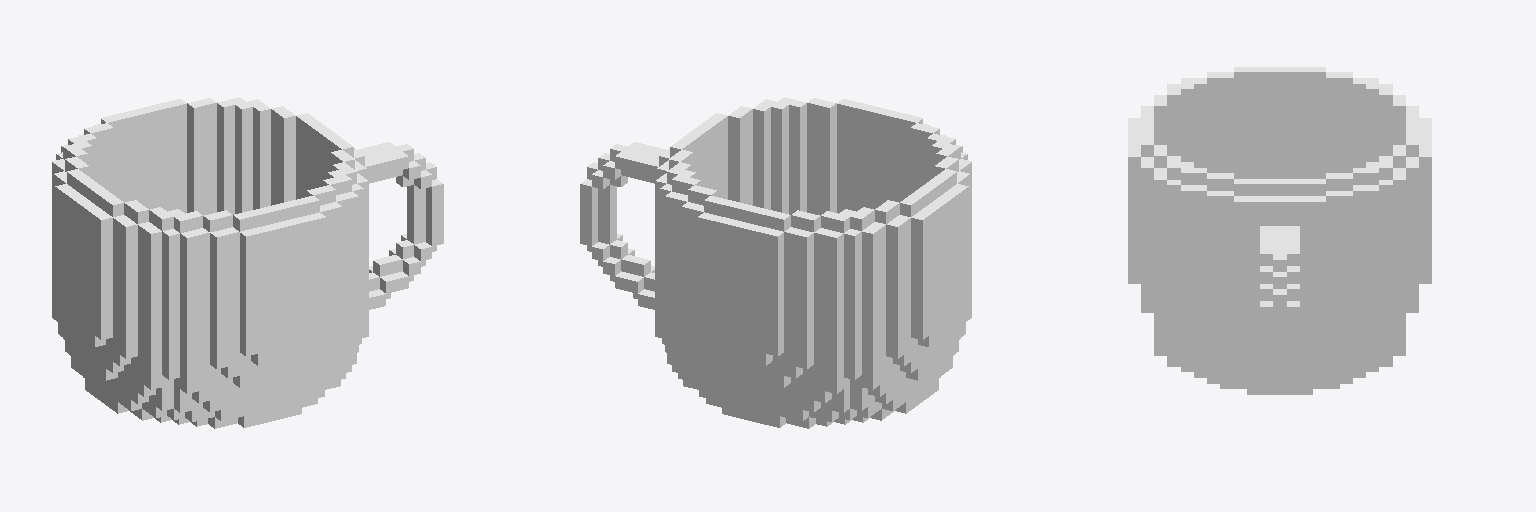
The model's file is teacup.obj.
3 views of the same model, side by side, from view 1: azimuth 30°, elevation 25°; view 2: azimuth 150°, elevation 25°; view 3: azimuth 270°, elevation 25° (orthographic).
Visible parts, largest first — view 1: object 1; view 2: object 1; view 3: object 1.
Part boxes in pixels (x1,y1,x2,y2): object 1: (52,97,443,428); object 1: (580,97,971,428); object 1: (1128,67,1431,394).
Bounding box in the file's own units: 3.1 × 1.8 × 2.3.